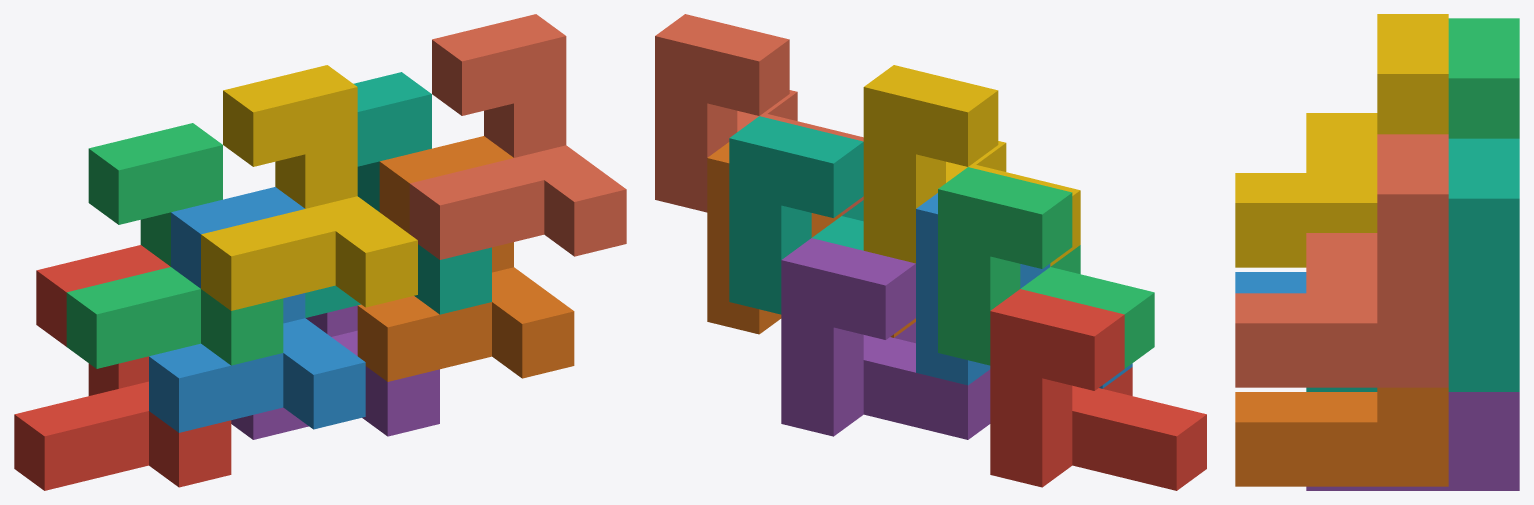
Rendered from tiling.obj.
3 views of the same model, side by side, from view 1: azimuth 30°, elevation 25°; view 2: azimuth 150°, elevation 25°; view 3: azimuth 270°, elevation 25° (orthographic). The views are drawn at different scales.
Parts seen in each view (by area): view 1: copy_1_domain_8, copy_1_domain_4, copy_1_domain_3, copy_1_domain_1, copy_1_domain_2, copy_1_domain_6, copy_1_domain_7, copy_1_domain_5; view 2: copy_1_domain_1, copy_1_domain_5, copy_1_domain_3, copy_1_domain_4, copy_1_domain_7, copy_1_domain_8, copy_1_domain_6, copy_1_domain_2; view 3: copy_1_domain_8, copy_1_domain_4, copy_1_domain_6, copy_1_domain_7, copy_1_domain_3, copy_1_domain_5, copy_1_domain_2.
Part boxes in pixels (bbox=[...]): copy_1_domain_8: bbox=[409, 14, 626, 259]; copy_1_domain_4: bbox=[201, 65, 417, 310]; copy_1_domain_3: bbox=[66, 123, 283, 368]; copy_1_domain_1: bbox=[14, 245, 231, 490]; copy_1_domain_2: bbox=[149, 187, 365, 432]; copy_1_domain_6: bbox=[357, 136, 574, 381]; copy_1_domain_7: bbox=[305, 72, 491, 317]; copy_1_domain_5: bbox=[231, 305, 439, 439]; copy_1_domain_1: bbox=[990, 289, 1206, 490]; copy_1_domain_5: bbox=[781, 238, 990, 439]; copy_1_domain_3: bbox=[938, 167, 1154, 368]; copy_1_domain_4: bbox=[863, 65, 1080, 266]; copy_1_domain_7: bbox=[729, 116, 863, 314]; copy_1_domain_8: bbox=[655, 14, 863, 215]; copy_1_domain_6: bbox=[707, 142, 915, 337]; copy_1_domain_2: bbox=[916, 193, 1132, 388]; copy_1_domain_8: bbox=[1235, 134, 1448, 387]; copy_1_domain_4: bbox=[1235, 14, 1448, 267]; copy_1_domain_6: bbox=[1235, 387, 1448, 486]; copy_1_domain_7: bbox=[1306, 138, 1519, 391]; copy_1_domain_3: bbox=[1448, 18, 1519, 138]; copy_1_domain_5: bbox=[1306, 392, 1519, 490]; copy_1_domain_2: bbox=[1235, 272, 1306, 293].
Size of the model in its own units: 10 by 6 by 4.
